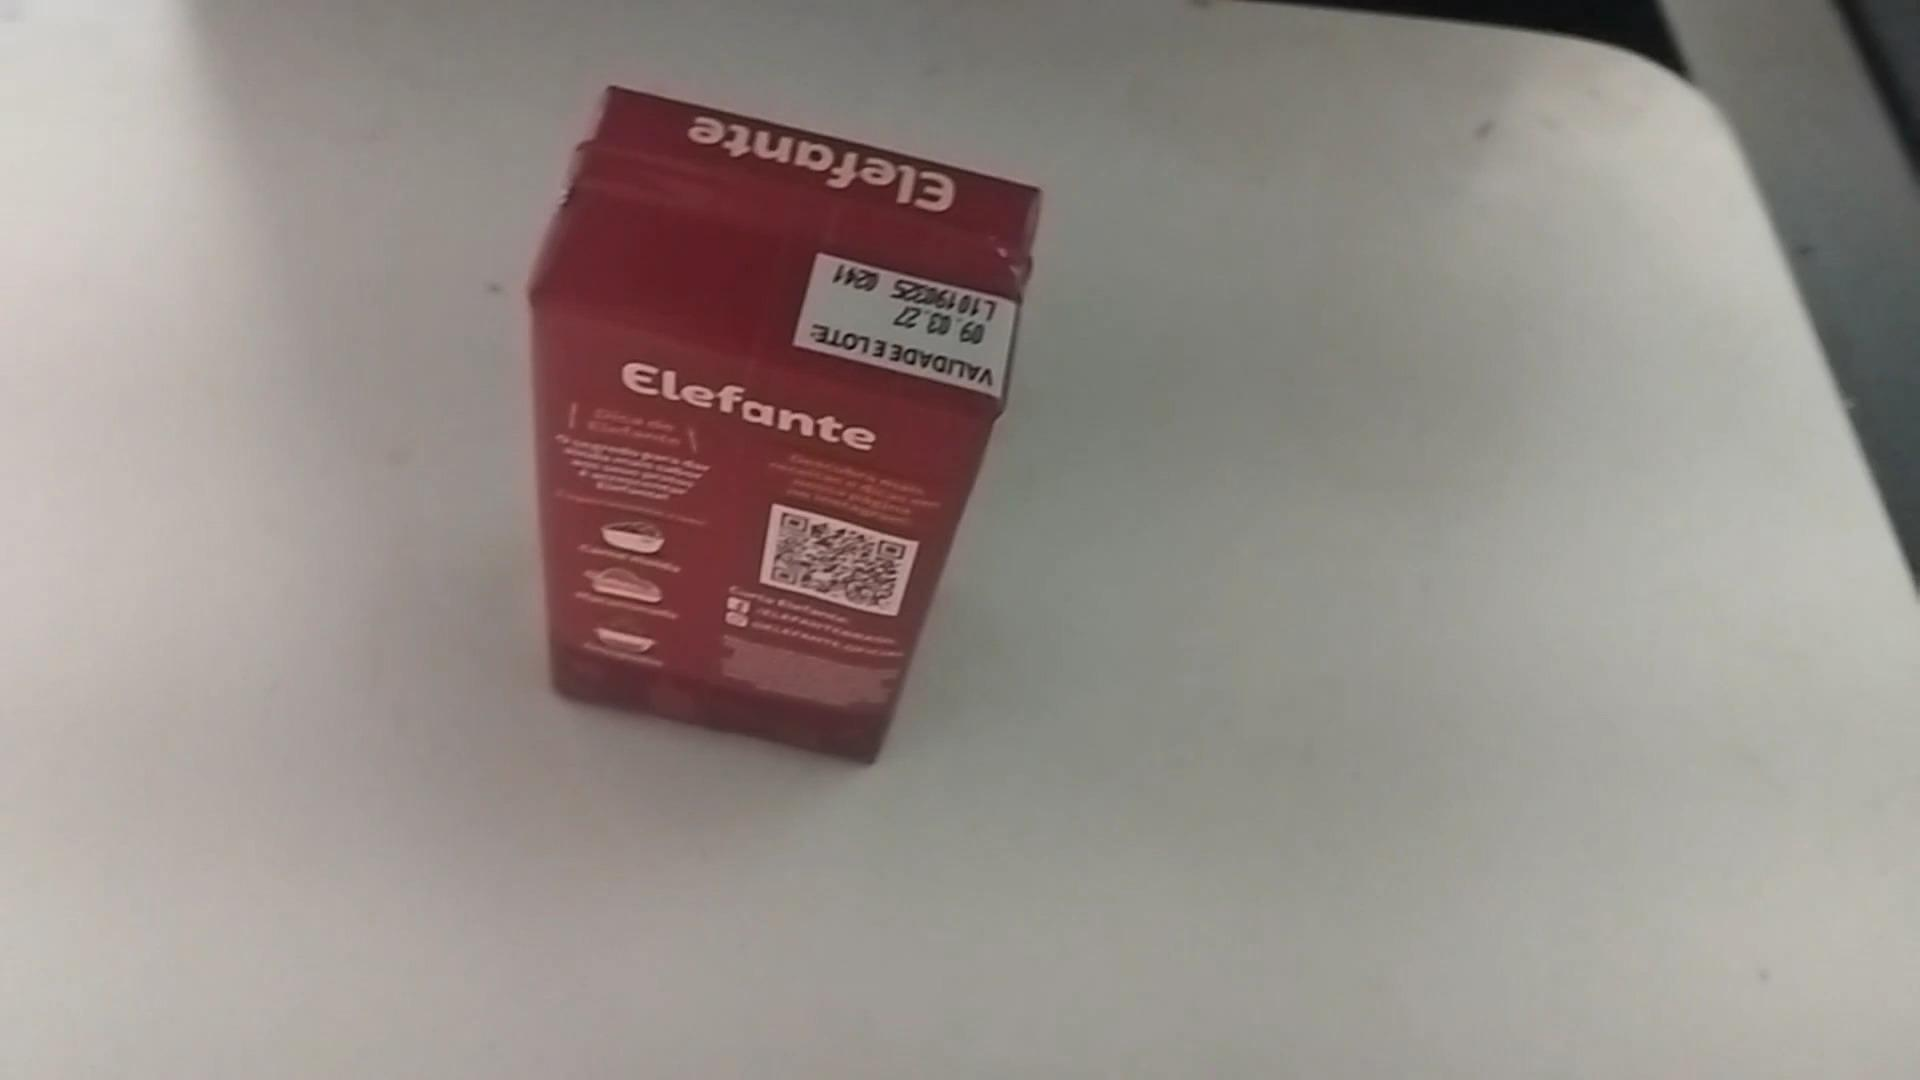tomate: (517, 71, 1081, 770)
